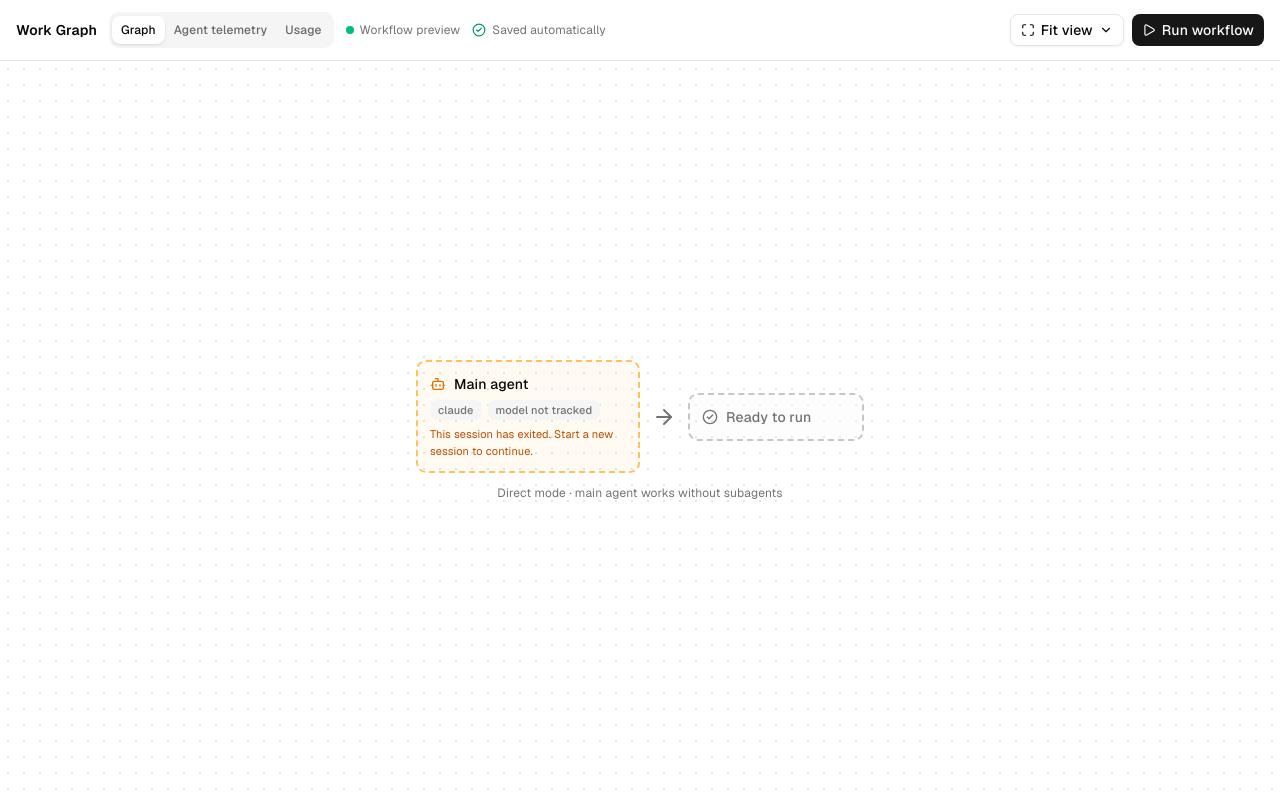
OrchestratorCanvas › the inspector drops the harness-locked/delete-refused rules once the session has exited
Click the button with test id "orchestrator-main-agent".
click(528, 417)  # box [416,360,640,473]
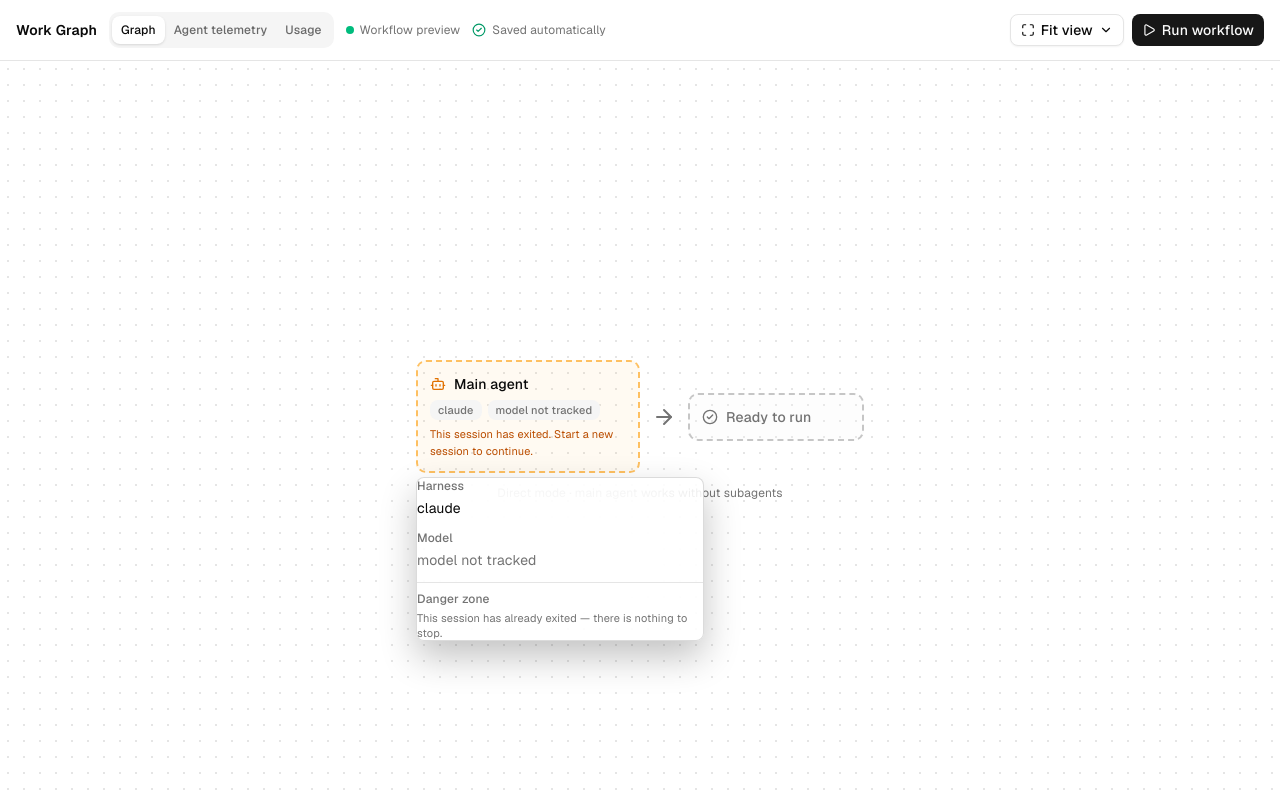
Expected: the dialog with test id "main-agent-inspector" is shown, [416,477,704,641]
